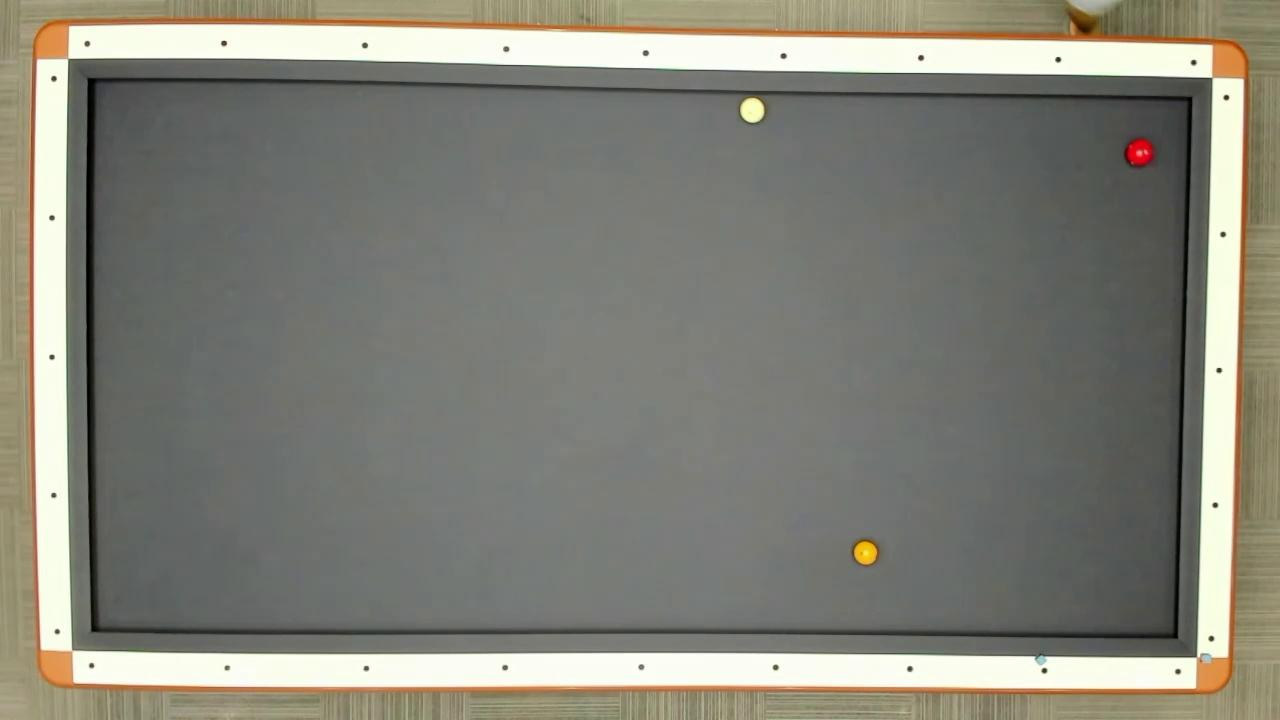Red: (1124, 136, 1154, 170)
White: (738, 97, 768, 124)
Yellow: (851, 538, 880, 568)
